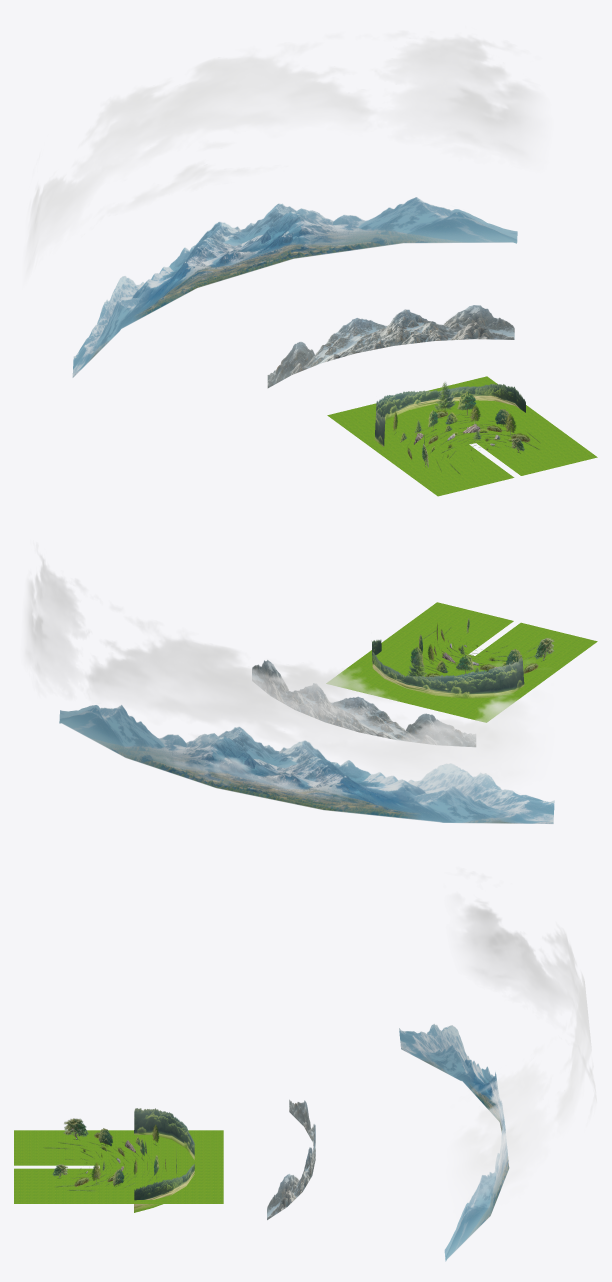
Rendered from 01_enviro.glb.
3 renders of one model, top to bottom at view 1: azimuth 30°, elevation 25°; view 2: azimuth 150°, elevation 25°; view 3: azimuth 270°, elevation 25°, orthographic. The views are drawn at different scales.
Visible parts, largest first — view 1: env_clouds, env_mountain_back, env_field_out, env_mountain_front, _env_forest; view 2: env_clouds, env_mountain_back, env_field_out, env_mountain_front, _env_forest; view 3: env_clouds, env_field_out, env_mountain_back, _env_forest, env_mountain_front.
Part boxes in pixels (bbox=[...]): env_clouds: bbox=[25, 31, 542, 276]; env_mountain_back: bbox=[72, 197, 517, 377]; env_field_out: bbox=[327, 376, 597, 496]; env_mountain_front: bbox=[267, 305, 514, 388]; _env_forest: bbox=[374, 383, 525, 446]; env_clouds: bbox=[24, 544, 539, 799]; env_mountain_back: bbox=[59, 705, 554, 823]; env_field_out: bbox=[326, 602, 597, 722]; env_mountain_front: bbox=[252, 660, 475, 746]; _env_forest: bbox=[372, 639, 524, 698]; env_clouds: bbox=[453, 873, 596, 1207]; env_field_out: bbox=[14, 1130, 223, 1203]; env_mountain_back: bbox=[399, 1024, 509, 1261]; _env_forest: bbox=[134, 1108, 194, 1212]; env_mountain_front: bbox=[267, 1099, 315, 1219].
Bounding box in the file's own units: 830 × 350 × 814.
Materials: 3 (2 with a texture image).
